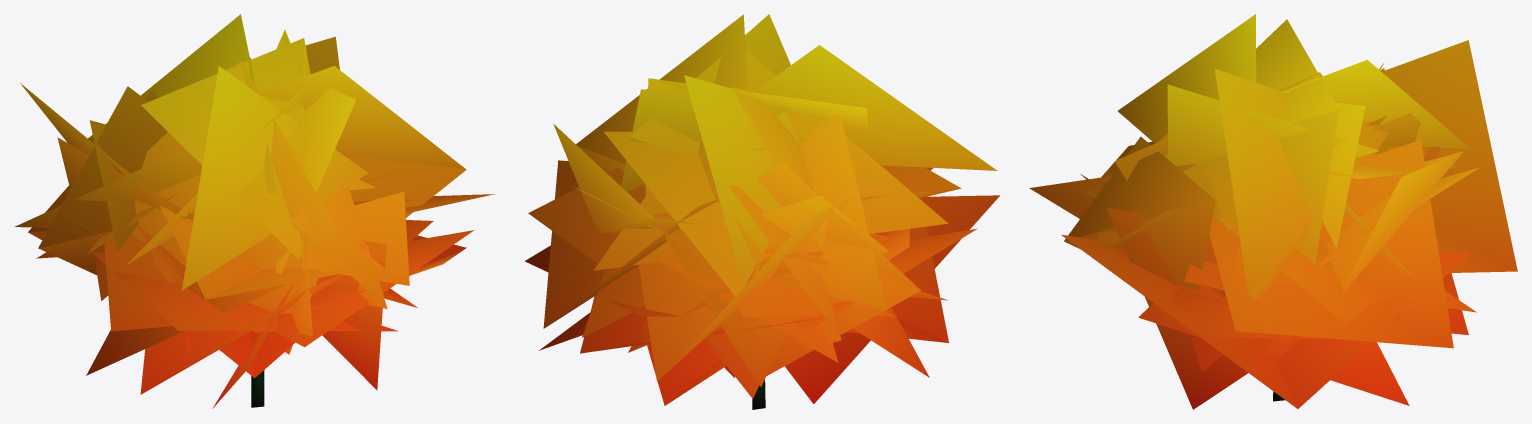
Rendered from small_bush_lod1.obj.
3 renders of one model, left to right at view 1: azimuth 30°, elevation 25°; view 2: azimuth 150°, elevation 25°; view 3: azimuth 270°, elevation 25°, orthographic.
Visible parts, largest first — view 1: BushLoD1; view 2: BushLoD1; view 3: BushLoD1.
Boxes of the visible parts, <box> form: BushLoD1: <box>14,14,494,408</box>; BushLoD1: <box>525,14,999,409</box>; BushLoD1: <box>1029,14,1517,409</box>.
Size of the model in its own units: 6.07 by 5.1 by 6.25.
